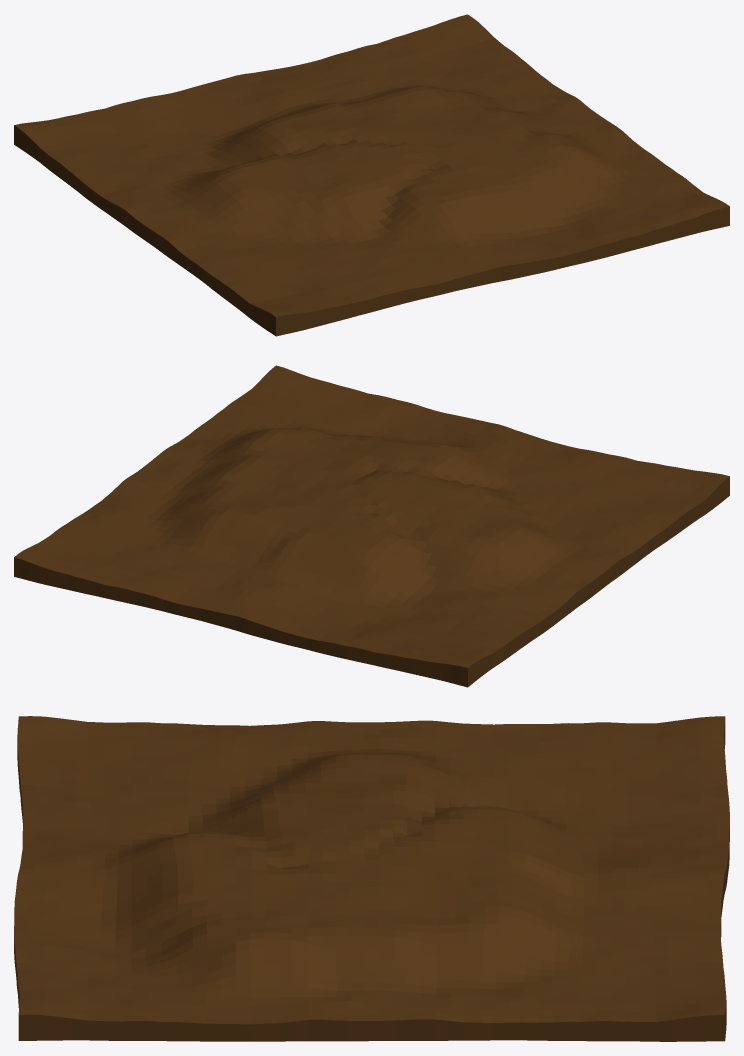
The picture shows the model from 3 angles, top to bottom: view 1: azimuth 30°, elevation 25°; view 2: azimuth 150°, elevation 25°; view 3: azimuth 270°, elevation 25°; orthographic projection. The views are drawn at different scales.
Parts seen in each view (by area): view 1: J-1; view 2: J-1; view 3: J-1.
Part boxes in pixels (x1,y1,x2,y2): J-1: (14, 14, 729, 336); J-1: (14, 365, 729, 687); J-1: (14, 716, 729, 1041).
Bounding box in the file's own units: 7070 × 602 × 7129.
